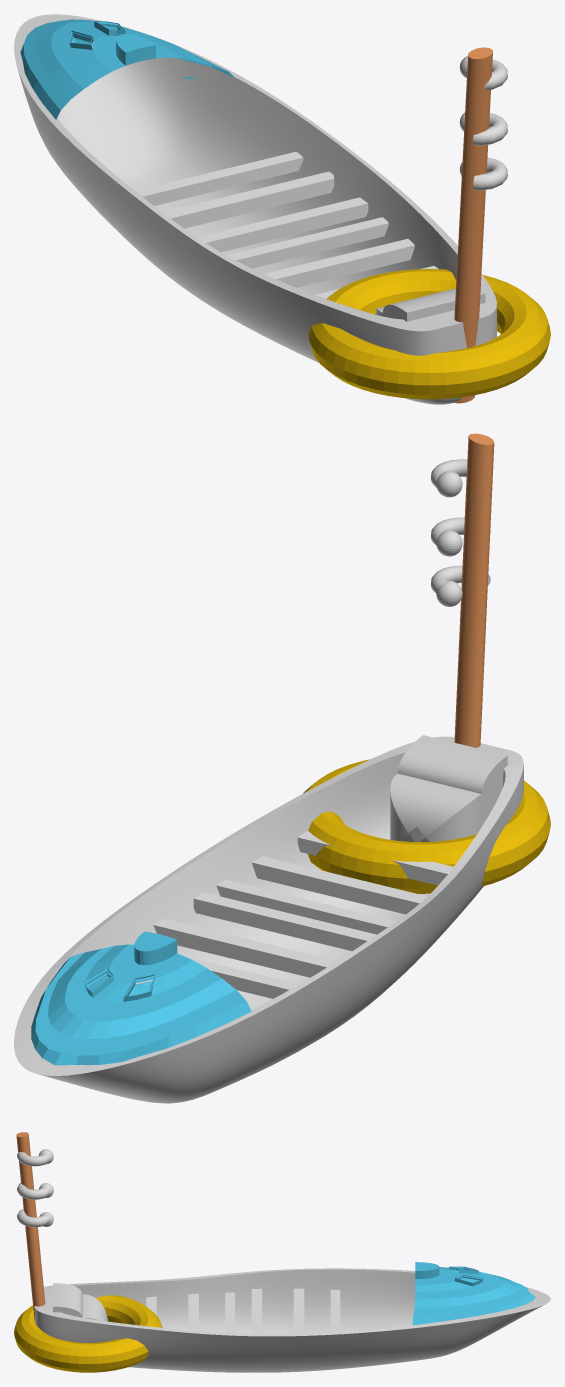
The model's file is kuntitled.fbx.
3 renders of one model, top to bottom at view 1: azimuth 30°, elevation 25°; view 2: azimuth 150°, elevation 25°; view 3: azimuth 270°, elevation 25°, orthographic. The views are drawn at different scales.
Visible parts, largest first — view 1: Cube, Plane.001, Cube.002, Sphere.004, BezierCurve, Cube.001, Plane, BezierCurve.003, BezierCurve.002; view 2: Cube, Sphere.004, Plane.001, Plane, Cube.002, Cube.001, BezierCurve; view 3: Cube, Plane.001, Sphere.004, BezierCurve, Cube.002, Plane, Cube.001, BezierCurve.003, BezierCurve.002, BezierCurve.001.
Boxes of the visible parts, x1,y1,x2,y2 form: Cube: (14, 14, 497, 404); Plane.001: (308, 269, 550, 399); Cube.002: (135, 152, 368, 252); Sphere.004: (20, 19, 235, 119); BezierCurve: (454, 47, 492, 403); Cube.001: (226, 217, 438, 298); Plane: (376, 288, 485, 321); BezierCurve.003: (473, 157, 507, 190); BezierCurve.002: (473, 113, 507, 145); Cube: (14, 736, 523, 1103); Sphere.004: (31, 931, 251, 1065); Plane.001: (303, 759, 550, 893); Plane: (390, 735, 507, 841); Cube.002: (133, 892, 376, 998); Cube.001: (216, 831, 453, 934); BezierCurve: (454, 433, 494, 747); Cube: (34, 1268, 550, 1372); Plane.001: (14, 1295, 162, 1372); Sphere.004: (412, 1262, 535, 1325); BezierCurve: (16, 1132, 45, 1320); Cube.002: (251, 1288, 340, 1334); Plane: (53, 1283, 107, 1321); Cube.001: (146, 1292, 234, 1333); BezierCurve.003: (17, 1209, 50, 1227); BezierCurve.002: (17, 1182, 50, 1199); BezierCurve.001: (17, 1152, 50, 1166).
Size of the model in its own units: 583 by 942 by 1925.
